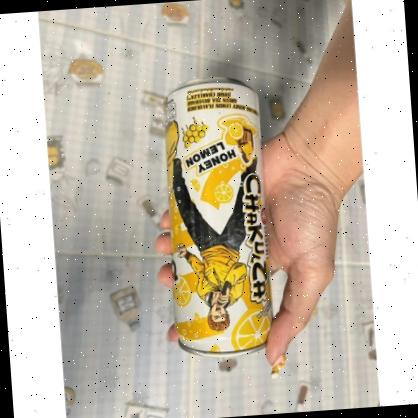can: (160, 78, 278, 362)
